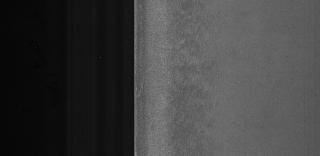silk spot: (168, 14, 216, 138)
